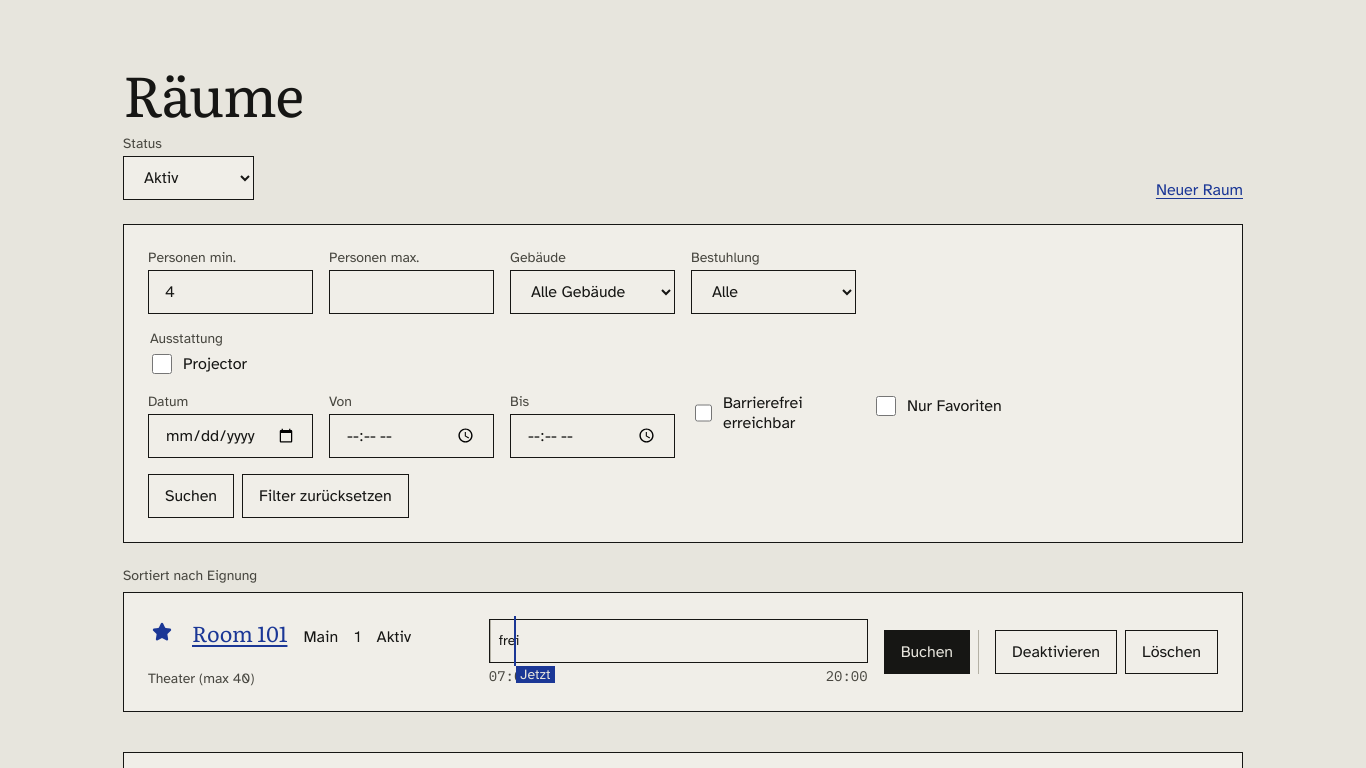
RoomListPage › favorites (feature 017) › marks favorites with a pressed star and re-runs the search after a change
The image size is (1366, 768).
Click the button named "Room 101: Favorit entfernen" at (162, 640), box [148,618,176,662]
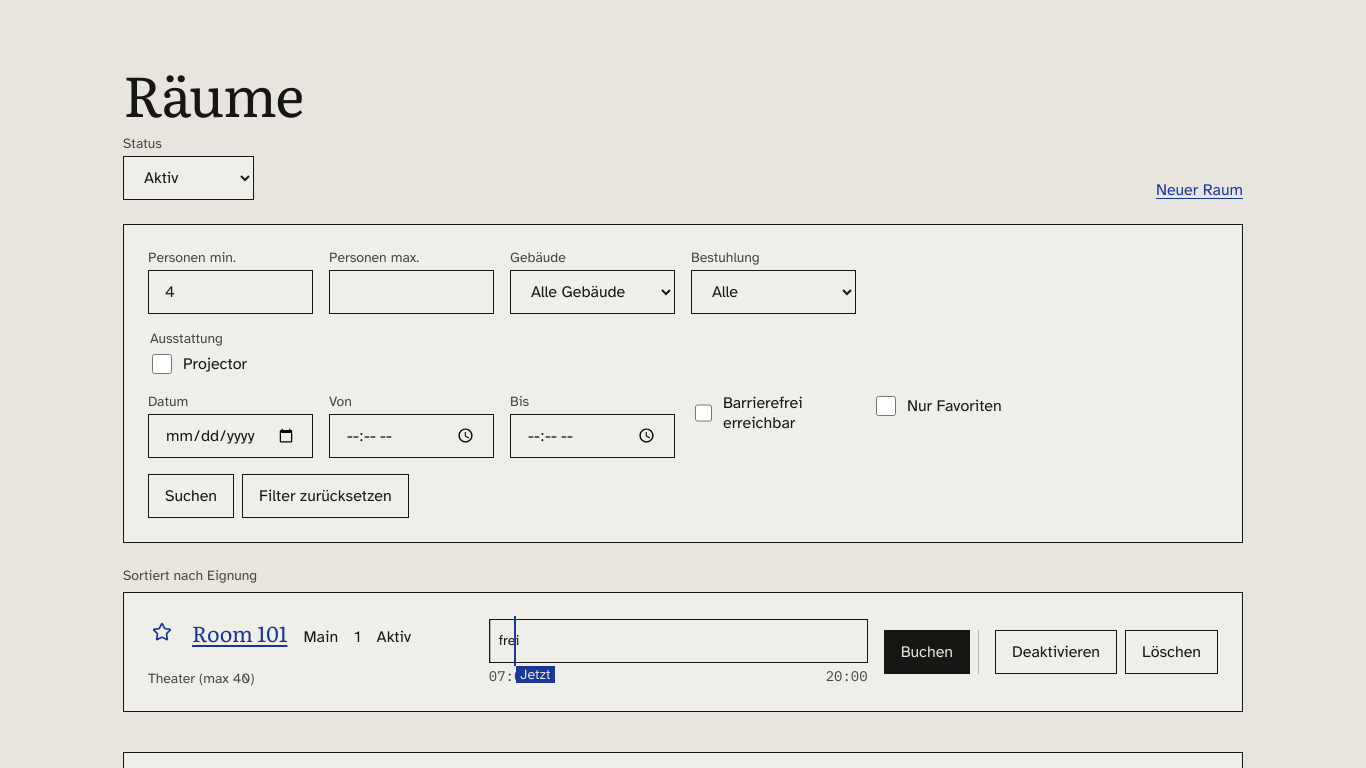
Now the button named "Room 101 als Favorit markieren" is shown, box [148,618,176,662]
